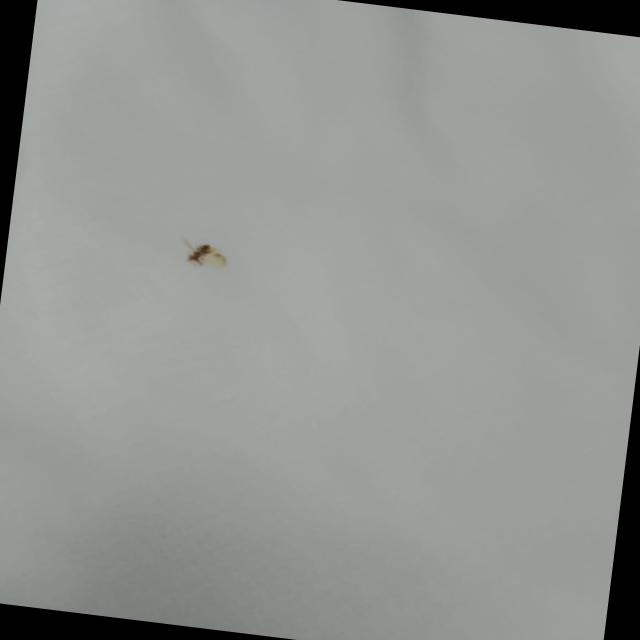stain: (164, 226, 248, 278)
